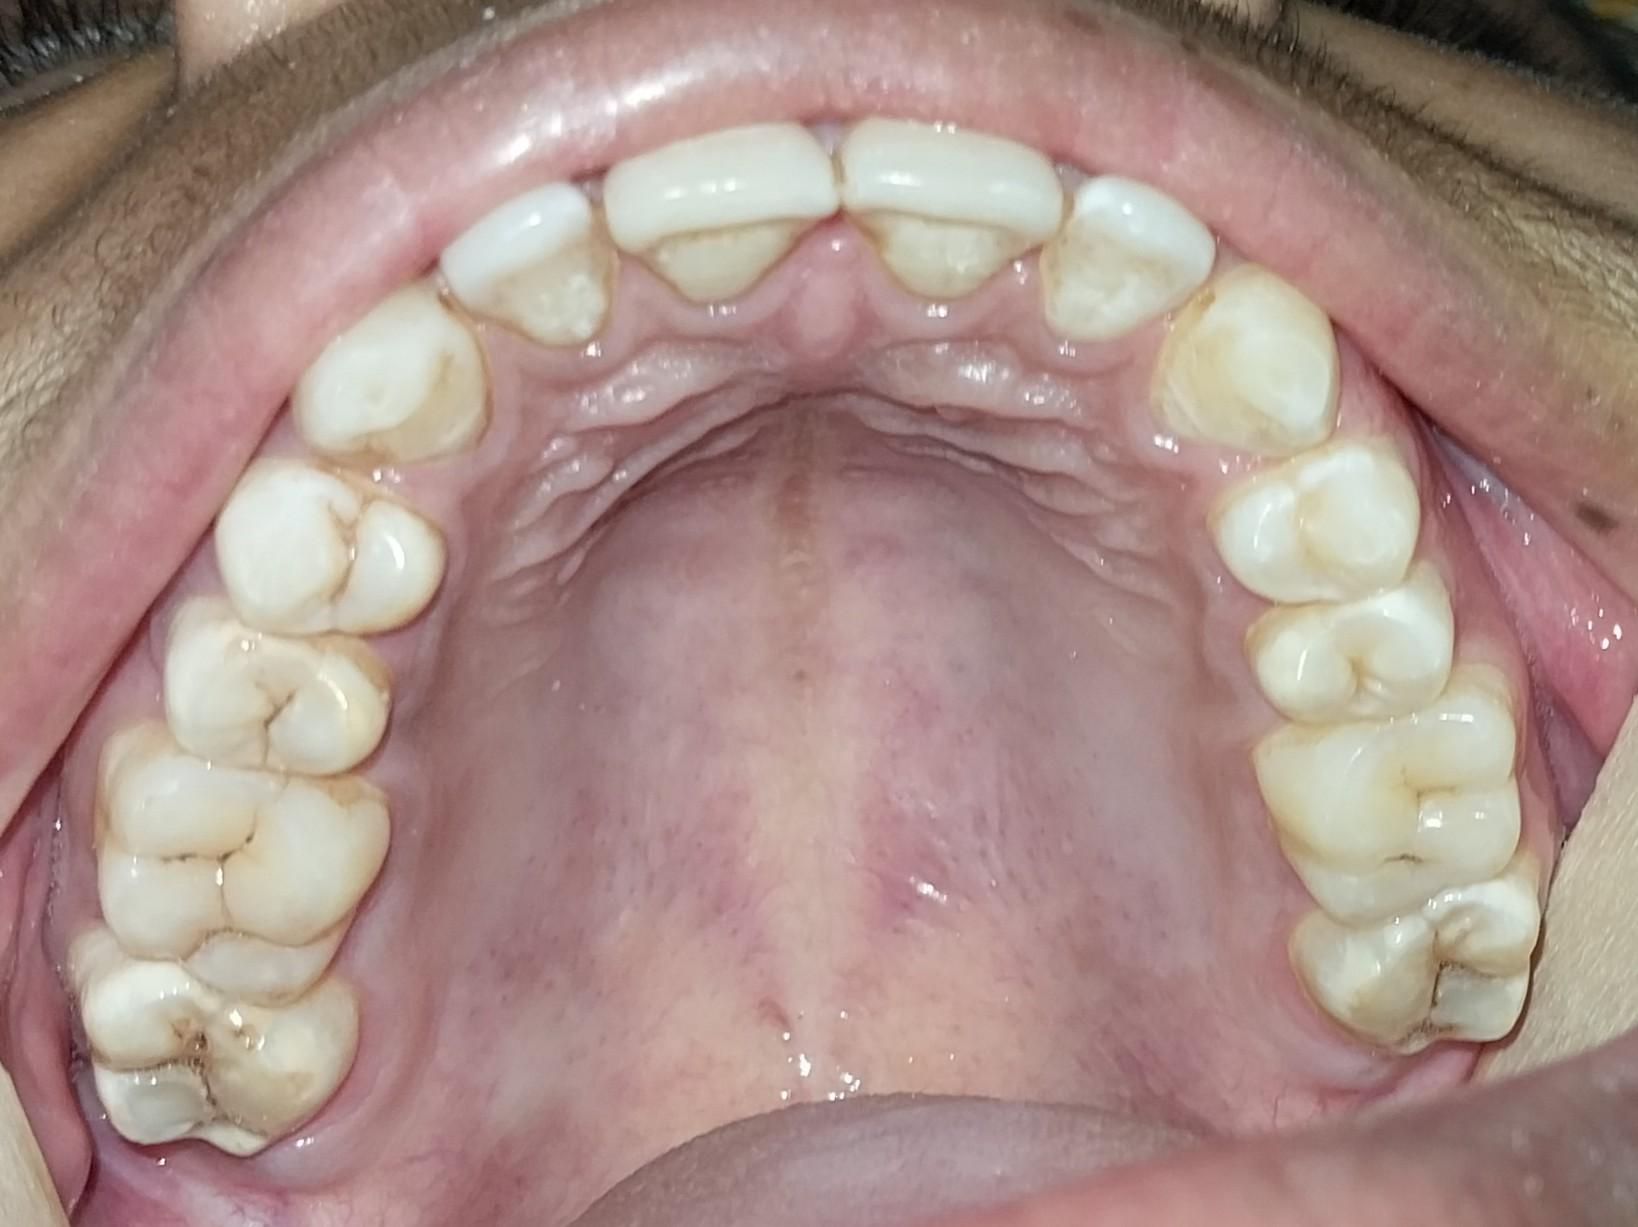D: (91, 735, 378, 999), (71, 934, 355, 1155), (1296, 877, 1538, 1049), (162, 607, 391, 774)
